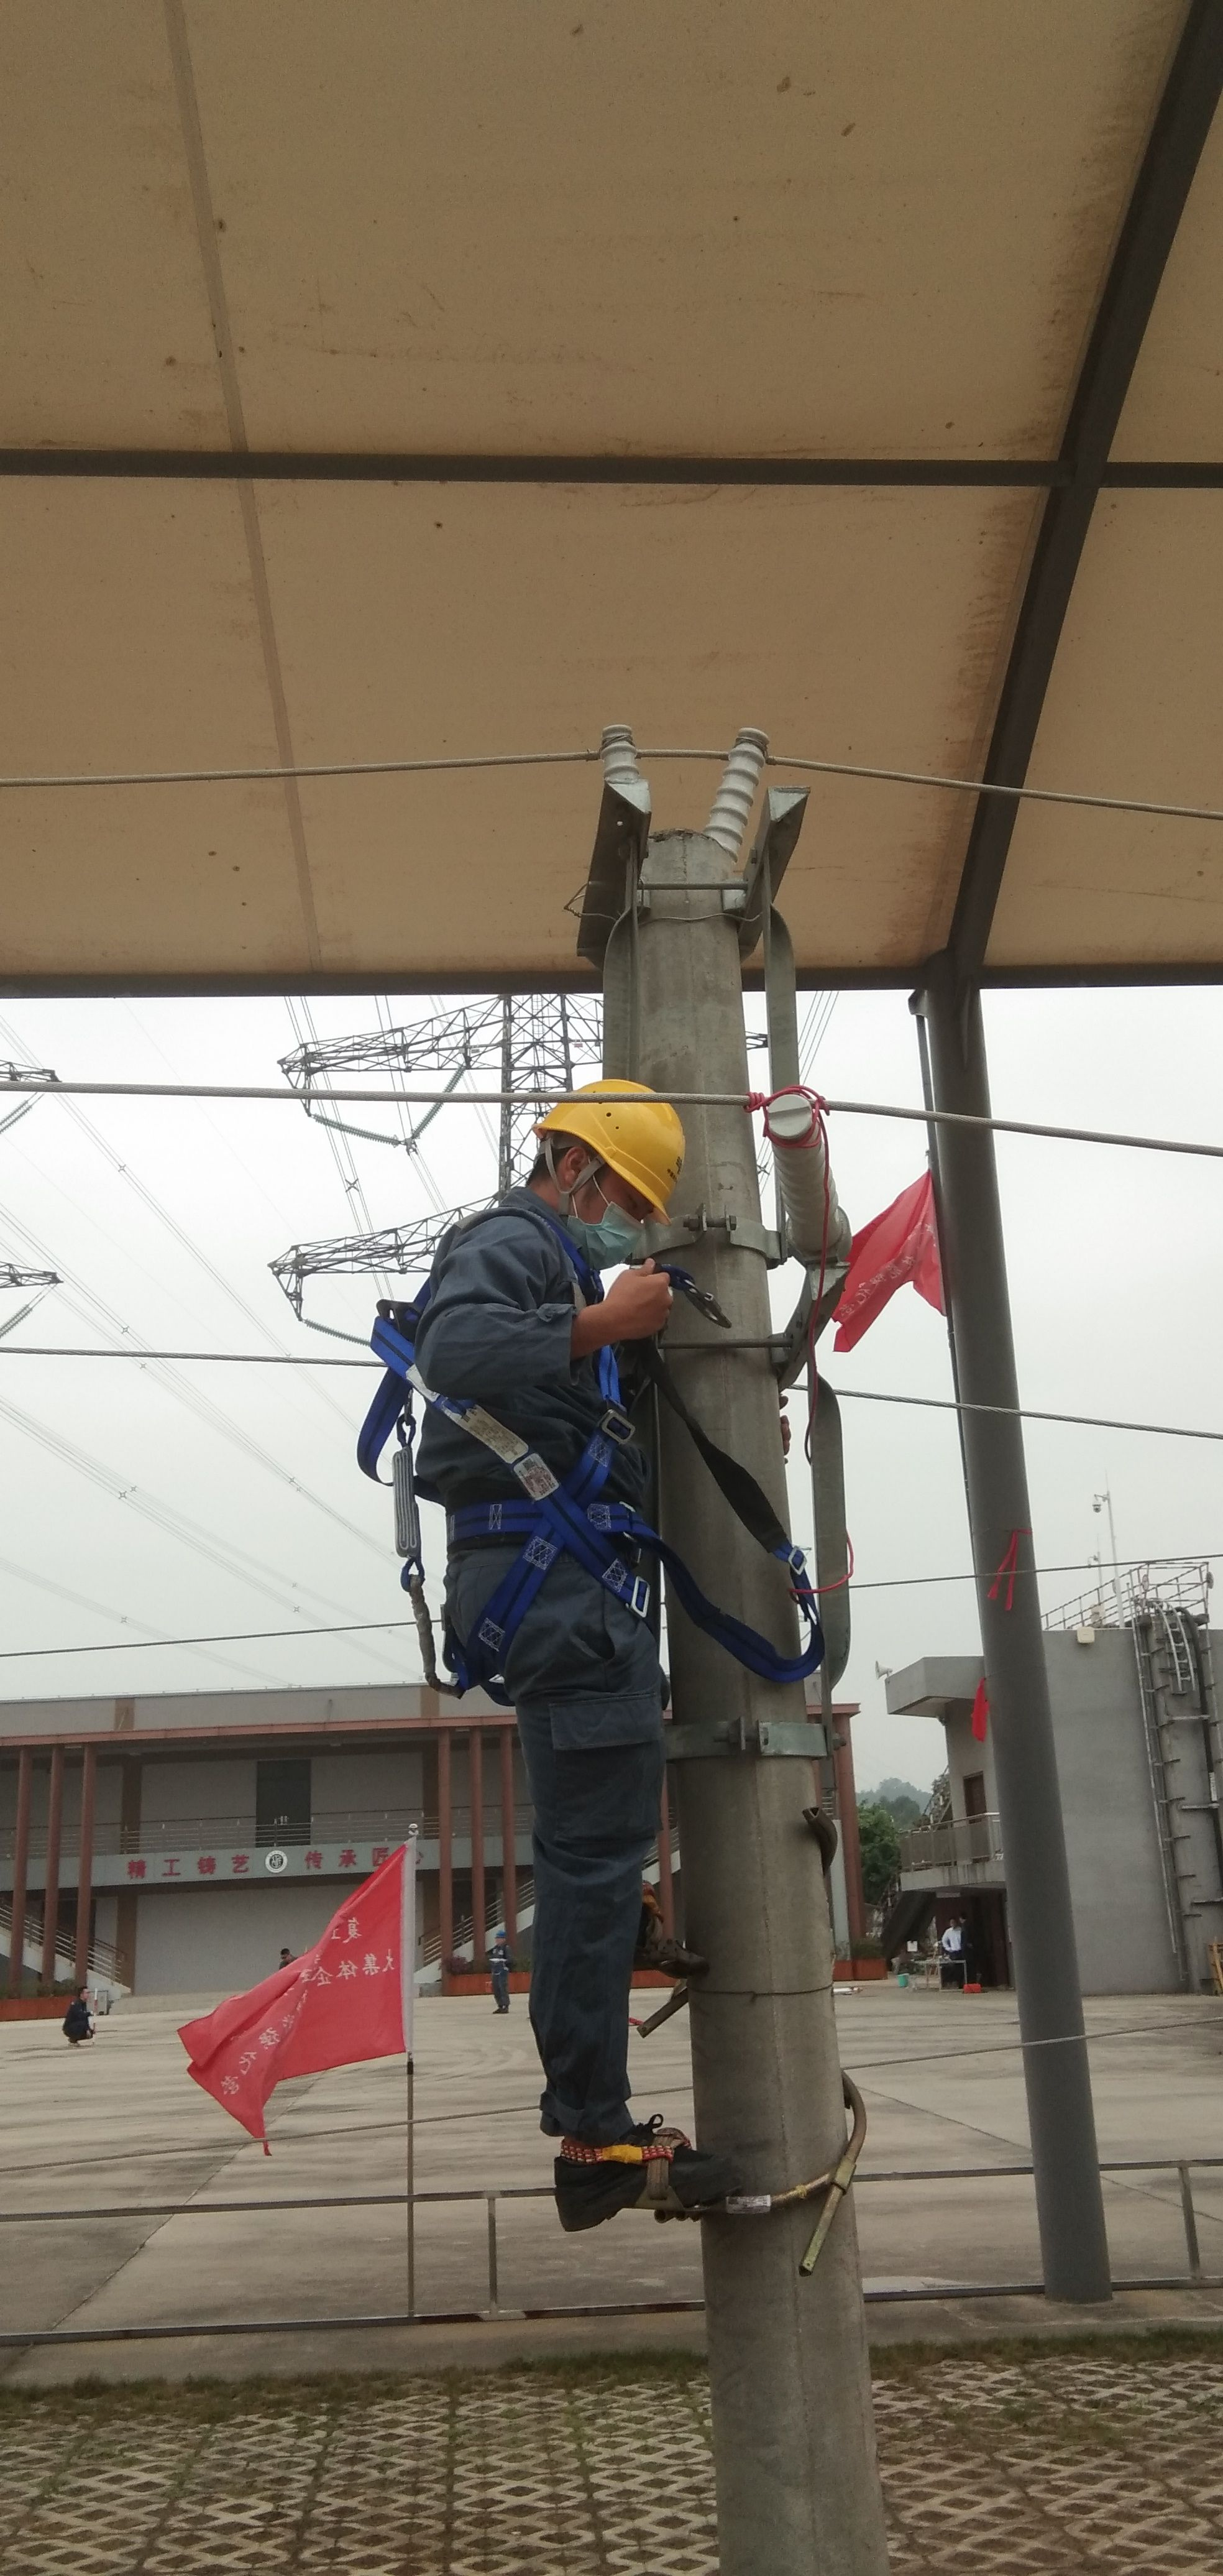downsuit: (443, 1548, 663, 2147)
upsuit: (404, 1203, 650, 1521)
